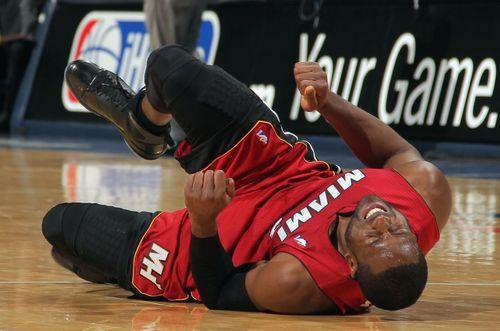fall: (29, 25, 467, 331)
